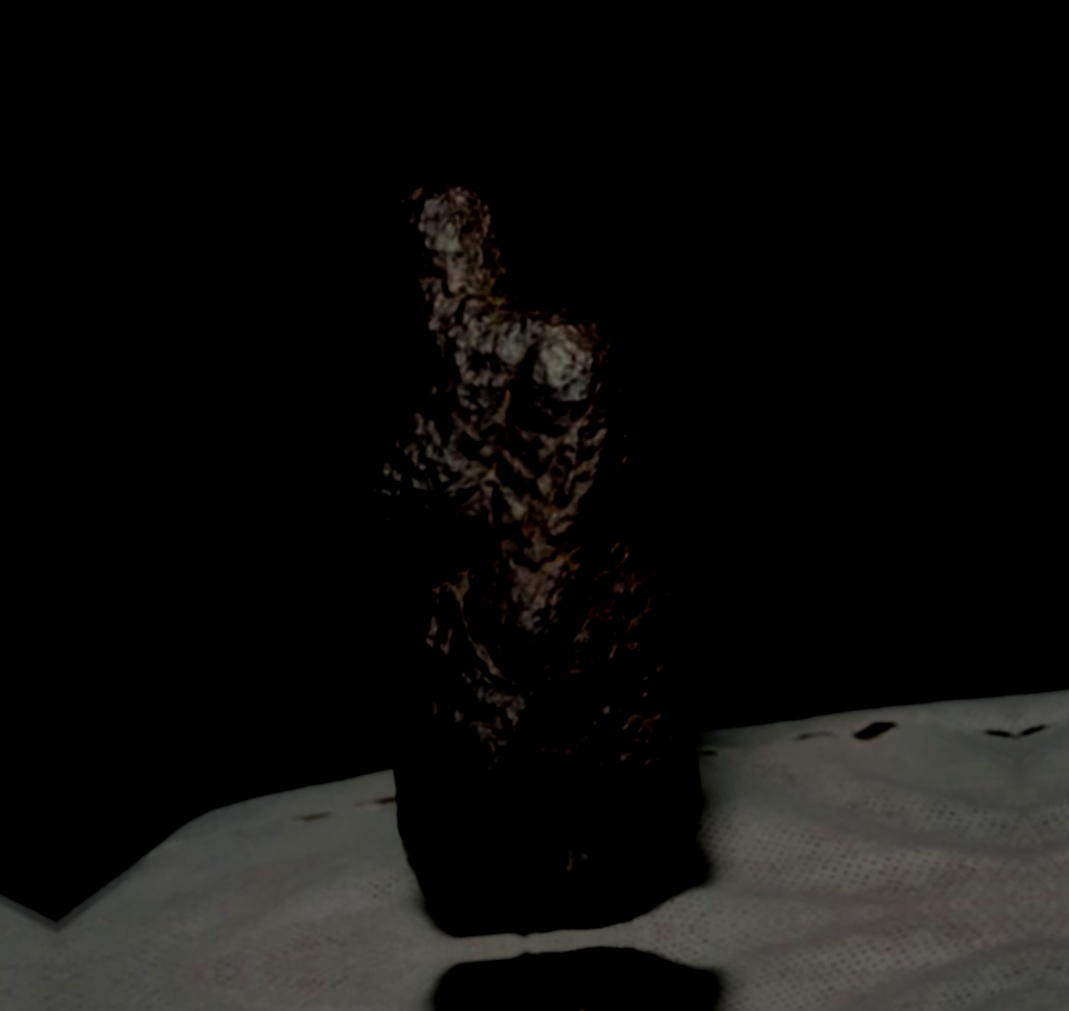halobolite: (271, 134, 773, 961)
